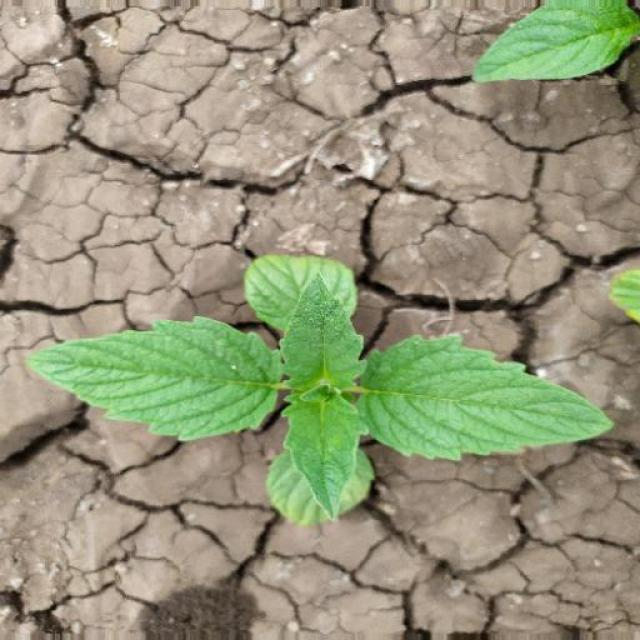crop: (20, 251, 621, 529)
